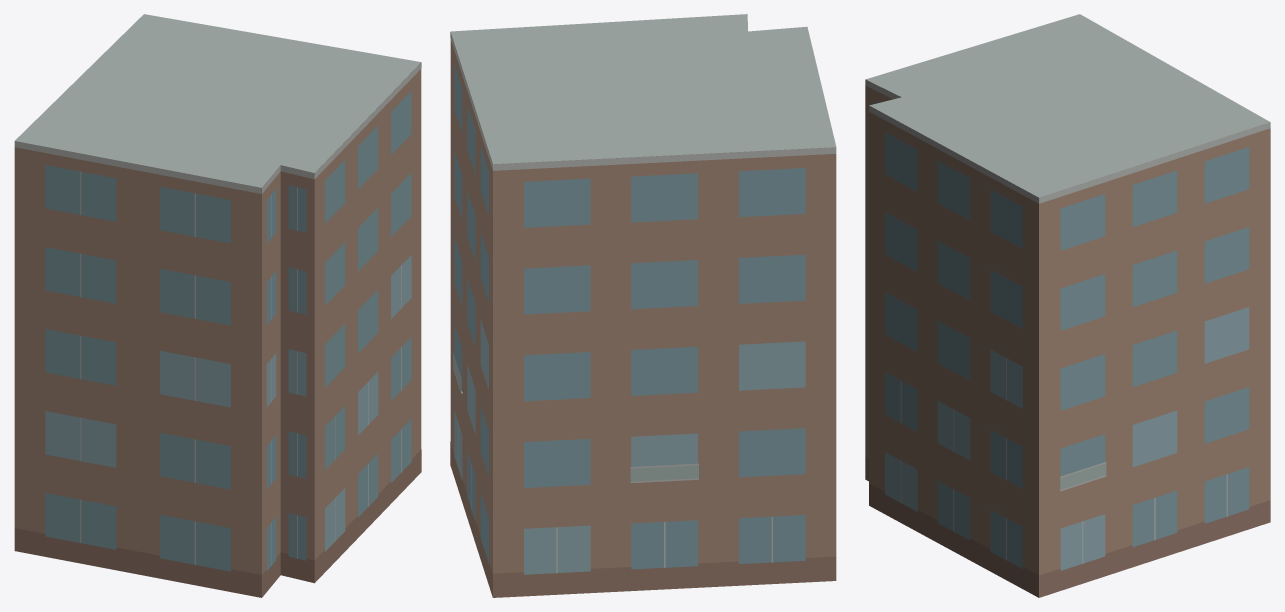
File: survey-upis-32966573.glb
3 views of the same model, side by side, from view 1: azimuth 30°, elevation 25°; view 2: azimuth 150°, elevation 25°; view 3: azimuth 270°, elevation 25° (orthographic). The views are drawn at different scales.
Parts seen in each view (by area): view 1: survey-upis-32966573.tmp; view 2: survey-upis-32966573.tmp; view 3: survey-upis-32966573.tmp.
Boxes of the visible parts, x1,y1,x2,y2 form: survey-upis-32966573.tmp: [14, 14, 421, 597]; survey-upis-32966573.tmp: [450, 14, 836, 597]; survey-upis-32966573.tmp: [865, 14, 1270, 597].
Bounding box in the file's own units: 15.77 × 16 × 14.69.
